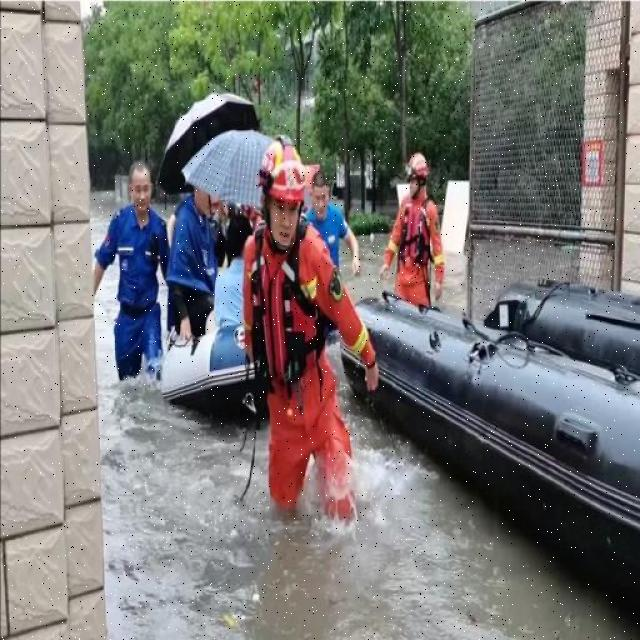rescuer: (208, 128, 388, 547), (368, 141, 480, 321)
